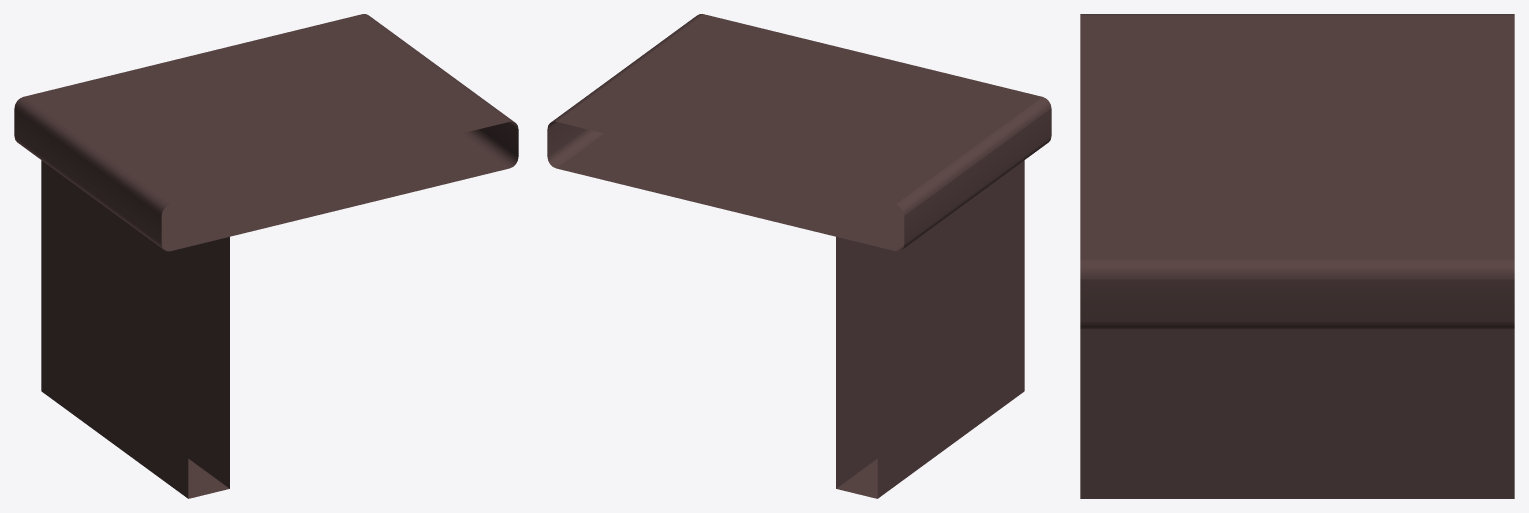
The model's file is DeskMiddlePieceBlockout_RB.fbx.
The picture shows the model from 3 angles, left to right: view 1: azimuth 30°, elevation 25°; view 2: azimuth 150°, elevation 25°; view 3: azimuth 270°, elevation 25°; orthographic projection. The views are drawn at different scales.
Visible parts, largest first — view 1: DeskMiddlePieceBlockout_RB; view 2: DeskMiddlePieceBlockout_RB; view 3: DeskMiddlePieceBlockout_RB.
Part boxes in pixels (x1,y1,x2,y2): DeskMiddlePieceBlockout_RB: (14,14,518,498); DeskMiddlePieceBlockout_RB: (547,14,1051,498); DeskMiddlePieceBlockout_RB: (1080,14,1514,498).
Size of the model in its own units: 280 by 224 by 200.
